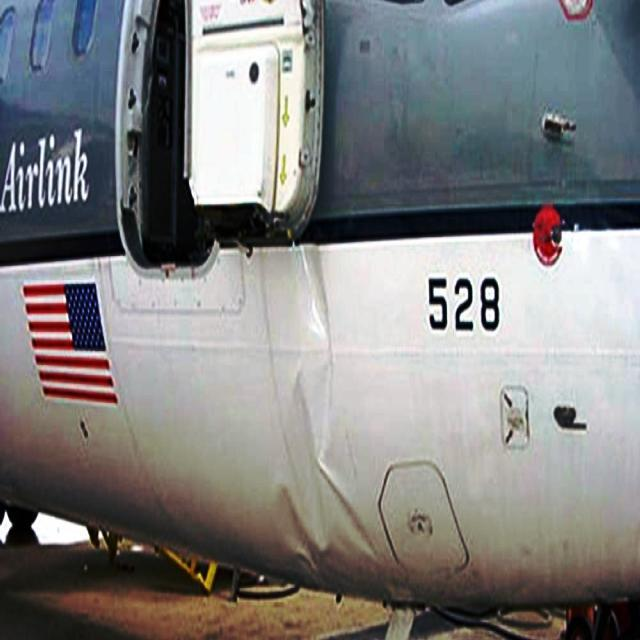dent: (275, 246, 380, 569)
